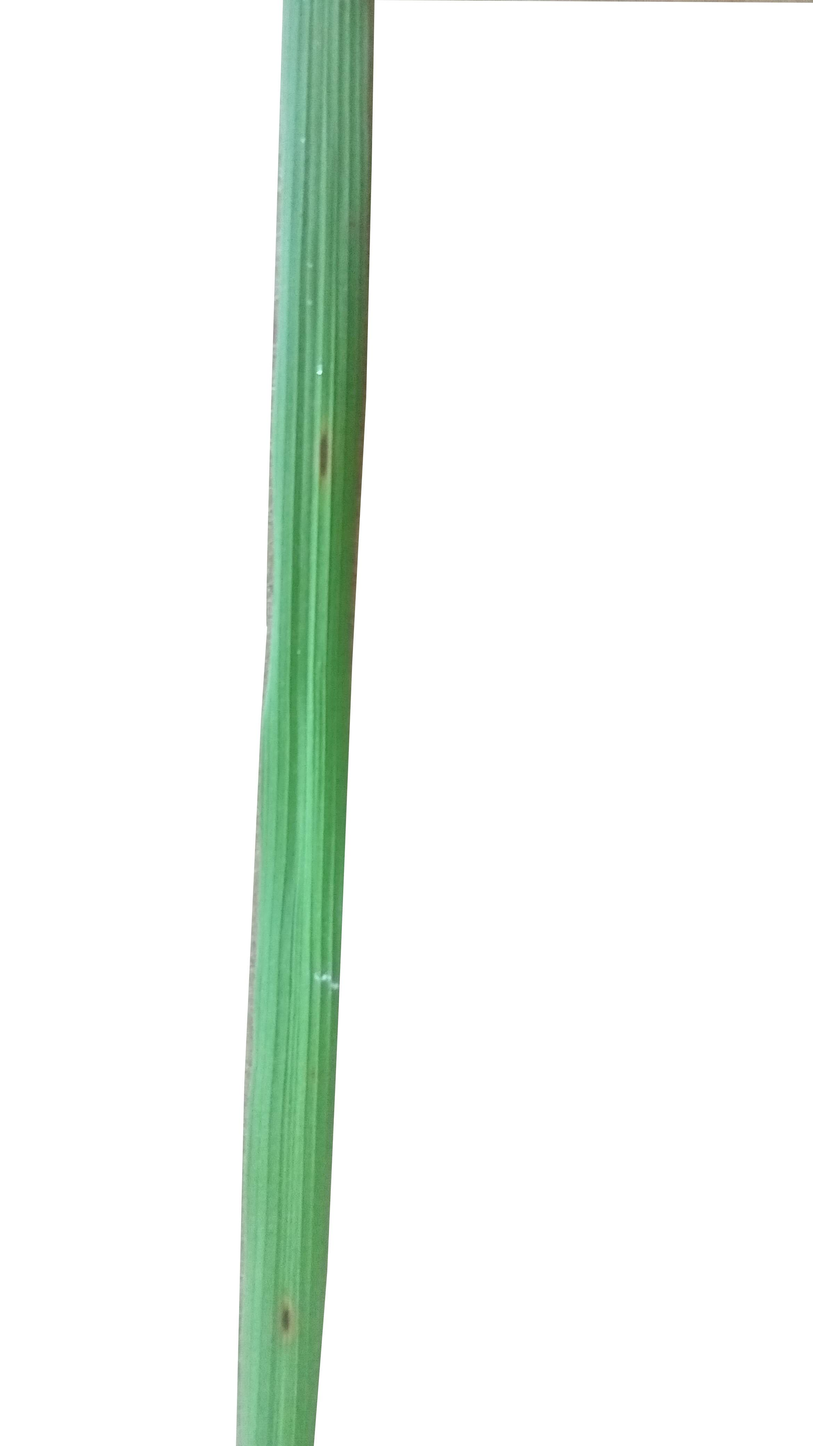Brown spot: (302, 417, 354, 483), (264, 1297, 316, 1349)
